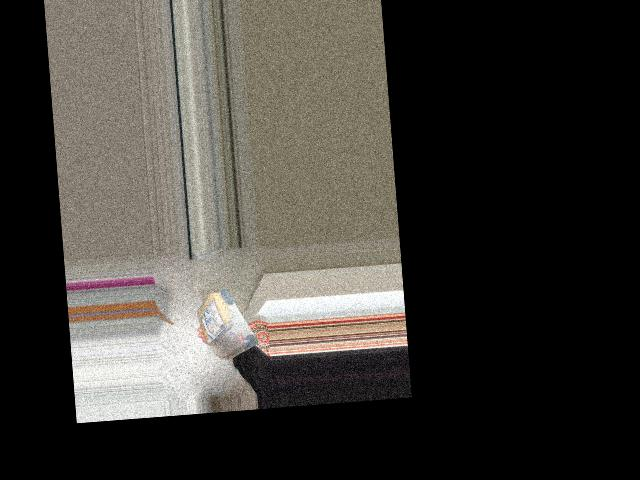cheese: (194, 284, 258, 372)
